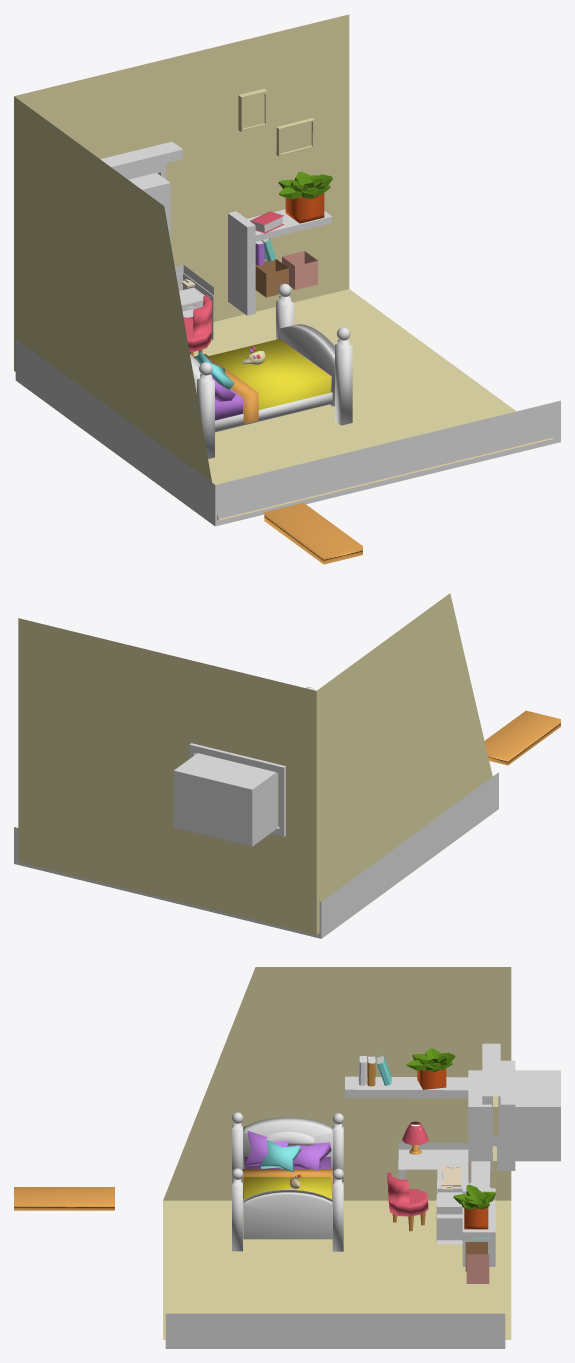
File: dormitorio.glb
3 views of the same model, one above another, from view 1: azimuth 30°, elevation 25°; view 2: azimuth 150°, elevation 25°; view 3: azimuth 270°, elevation 25° (orthographic). The views are drawn at different scales.
Parts seen in each view (by area): view 1: paredes, Cube.034, colcha, piso, Cube.005, Cube.029, Cube.030, Cube.046, Cube.028, Cube.014, Cube.026, Cube.015 (+8 smaller); view 2: paredes, Cube.034, Cube, piso, Cube.001entana 1, ventana 2; view 3: paredes, Cube.034, Cube, Cube.029, Plane, piso, Cube.055, ventana 2, Cube.002, colcha, Cylinder, Cube.046 (+14 smaller).
Boxes of the visible parts, left/top/right/bottom form: paredes: left=14, top=14, right=553, bottom=520; Cube.034: left=15, top=339, right=560, bottom=526; colcha: left=209, top=339, right=331, bottom=409; piso: left=264, top=503, right=362, bottom=564; Cube.005: left=228, top=211, right=255, bottom=315; Cube.029: left=280, top=324, right=334, bottom=406; Cube.030: left=335, top=339, right=352, bottom=425; Cube.046: left=100, top=141, right=183, bottom=174; Cube.028: left=215, top=392, right=332, bottom=432; Cube.014: left=276, top=118, right=314, bottom=156; Cube.026: left=197, top=374, right=214, bottom=458; Cube.015: left=238, top=89, right=267, bottom=132; paredes: left=18, top=593, right=492, bottom=934; Cube.034: left=14, top=772, right=498, bottom=938; Cube: left=173, top=753, right=278, bottom=846; piso: left=484, top=710, right=560, bottom=765; Cube.001entana 1: left=236, top=755, right=285, bottom=836; ventana 2: left=189, top=743, right=238, bottom=762; paredes: left=163, top=967, right=511, bottom=1339; Cube.034: left=165, top=1313, right=505, bottom=1348; Cube: left=468, top=1070, right=560, bottom=1161; Cube.029: left=243, top=1190, right=332, bottom=1239; Plane: left=398, top=1142, right=490, bottom=1244; piso: left=14, top=1187, right=114, bottom=1210; Cube.055: left=345, top=1076, right=468, bottom=1098; ventana 2: left=492, top=1082, right=515, bottom=1170; Cube.002: left=243, top=1117, right=332, bottom=1168; colcha: left=244, top=1177, right=331, bottom=1199; Cylinder: left=387, top=1172, right=428, bottom=1216; Cube.046: left=482, top=1043, right=500, bottom=1104.
Bounding box in the file's own units: 4.1 × 3.18 × 6.6.
